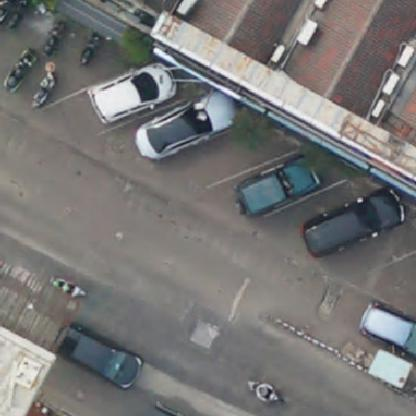car: (134, 86, 241, 159), (310, 175, 407, 255), (230, 154, 323, 217), (56, 322, 144, 387), (82, 61, 179, 119), (356, 302, 415, 358)
motorcycle: (243, 376, 284, 406), (4, 48, 34, 89), (78, 32, 106, 67), (44, 18, 67, 60), (47, 274, 84, 300), (32, 73, 59, 108), (0, 0, 30, 26)
